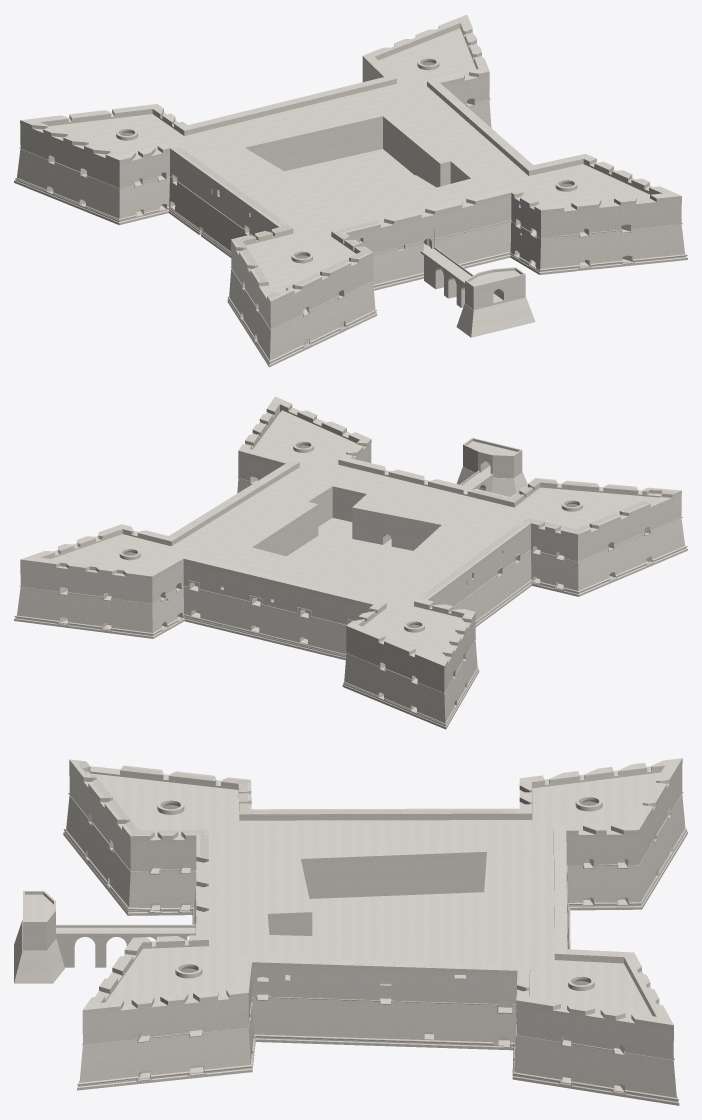
Rendered from castello.glb.
The picture shows the model from 3 angles, top to bottom: view 1: azimuth 30°, elevation 25°; view 2: azimuth 150°, elevation 25°; view 3: azimuth 270°, elevation 25°; orthographic projection. The views are drawn at different scales.
Bounding box in the file's own units: 288 × 39.3 × 302.
4 materials, 2 textured.
